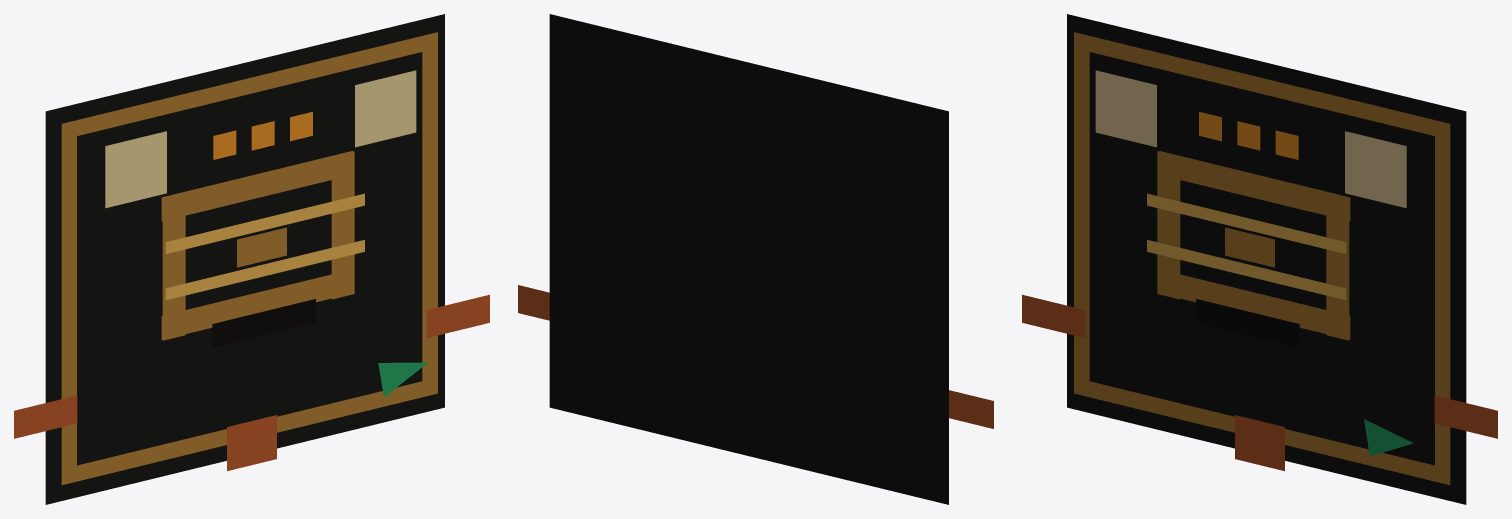
File: V134WPP_004_RouteConsolePropPolish_Staged.obj
3 renders of one model, left to right at view 1: azimuth 30°, elevation 25°; view 2: azimuth 150°, elevation 25°; view 3: azimuth 330°, elevation 25°, orthographic.
Visible parts, largest first — view 1: console_blackened_wall_backplate, console_aged_brass_panel_trim, console_valve_wheel_affordance_read, console_gauge_cluster_two_faces, console_copper_pipe_couplers, console_polished_contact_wear, console_oil_soot_grime_under_axle, console_amber_pilot_lamps, console_route_green_status_tick; view 2: console_blackened_wall_backplate, console_copper_pipe_couplers; view 3: console_blackened_wall_backplate, console_aged_brass_panel_trim, console_valve_wheel_affordance_read, console_gauge_cluster_two_faces, console_copper_pipe_couplers, console_polished_contact_wear, console_oil_soot_grime_under_axle, console_amber_pilot_lamps, console_route_green_status_tick.
Boxes of the visible parts, bbox=[...] form: console_blackened_wall_backplate: bbox=[45, 14, 444, 504]; console_aged_brass_panel_trim: bbox=[61, 32, 437, 484]; console_valve_wheel_affordance_read: bbox=[161, 151, 354, 340]; console_gauge_cluster_two_faces: bbox=[105, 70, 416, 208]; console_copper_pipe_couplers: bbox=[14, 294, 489, 470]; console_polished_contact_wear: bbox=[165, 193, 364, 300]; console_oil_soot_grime_under_axle: bbox=[212, 299, 315, 347]; console_amber_pilot_lamps: bbox=[213, 111, 312, 159]; console_route_green_status_tick: bbox=[378, 362, 427, 397]; console_blackened_wall_backplate: bbox=[549, 14, 948, 504]; console_copper_pipe_couplers: bbox=[518, 285, 993, 428]; console_blackened_wall_backplate: bbox=[1067, 14, 1466, 504]; console_aged_brass_panel_trim: bbox=[1074, 32, 1450, 484]; console_valve_wheel_affordance_read: bbox=[1157, 151, 1350, 340]; console_gauge_cluster_two_faces: bbox=[1095, 70, 1406, 208]; console_copper_pipe_couplers: bbox=[1022, 294, 1497, 470]; console_polished_contact_wear: bbox=[1147, 193, 1346, 300]; console_oil_soot_grime_under_axle: bbox=[1196, 299, 1299, 347]; console_amber_pilot_lamps: bbox=[1199, 111, 1298, 159]; console_route_green_status_tick: bbox=[1364, 419, 1413, 456].
Bounding box in the file's own units: 1.24 × 0.99 × 0.09.
